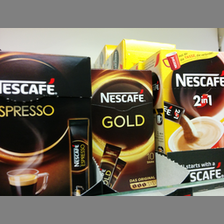coffee: (1, 52, 89, 196), (89, 69, 159, 194), (144, 48, 223, 152)
